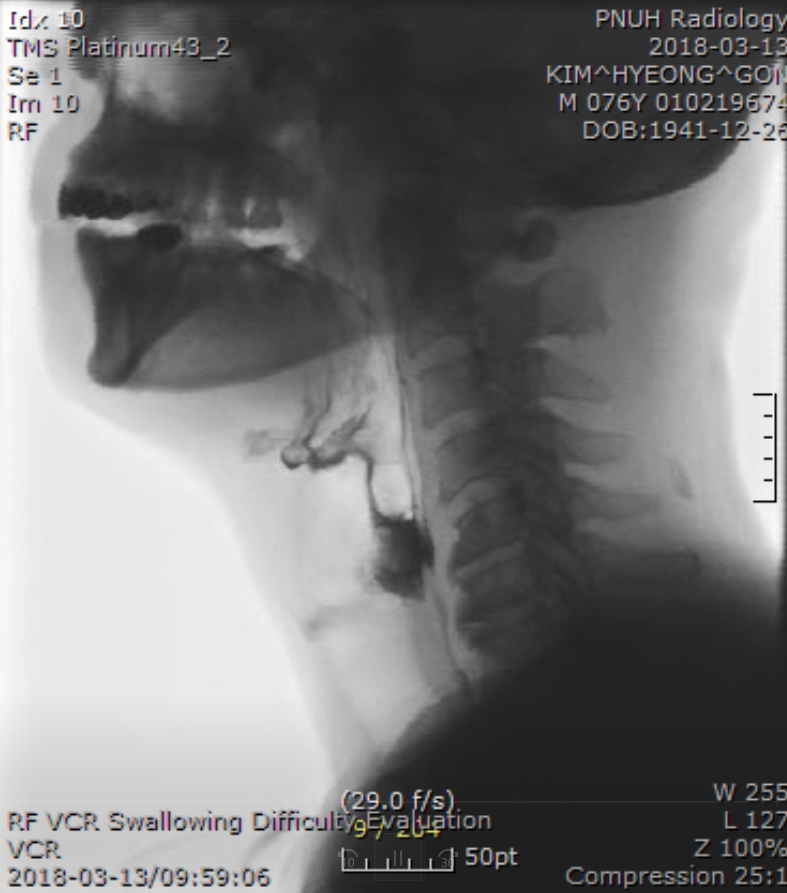dros: (346, 439, 426, 526)
food: (359, 506, 435, 594)
uros: (300, 394, 368, 480)
